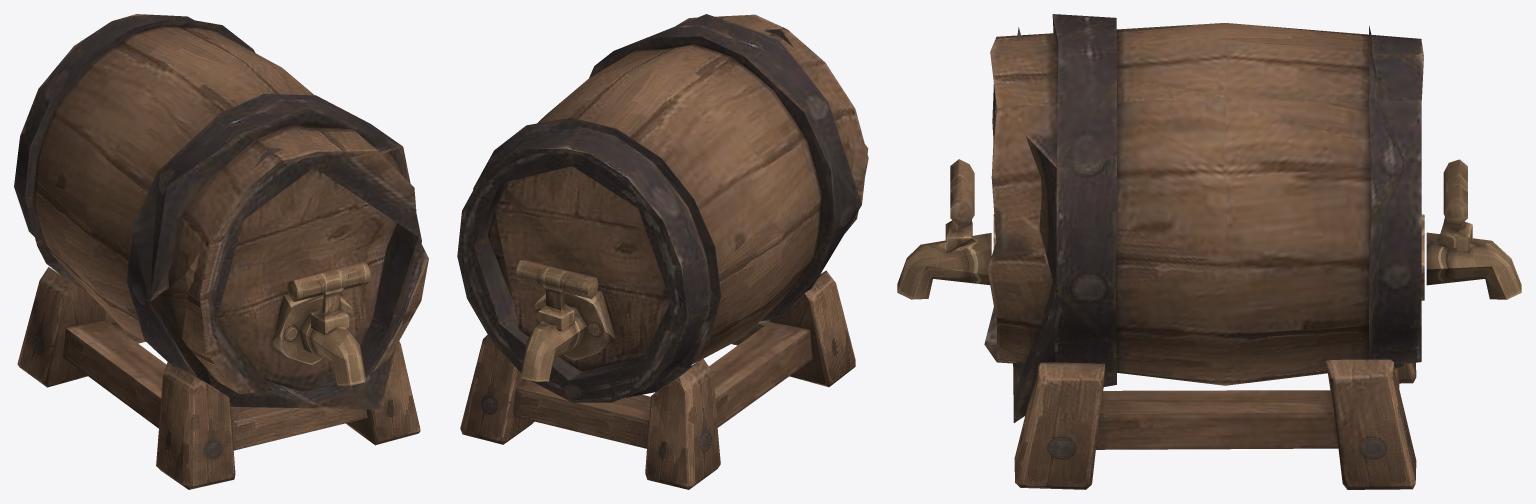
Rendered from beer-tap.glb.
3 renders of one model, left to right at view 1: azimuth 30°, elevation 25°; view 2: azimuth 150°, elevation 25°; view 3: azimuth 270°, elevation 25°, orthographic. The views are drawn at different scales.
Parts seen in each view (by area): view 1: GLTF; view 2: GLTF; view 3: GLTF.
Boxes of the visible parts, left/top/right/bottom form: GLTF: left=14, top=14, right=428, bottom=489; GLTF: left=457, top=14, right=868, bottom=489; GLTF: left=897, top=14, right=1521, bottom=489.
Size of the model in its own units: 0.1747 by 0.2083 by 0.2998.
Materials: 1 (1 with a texture image).
